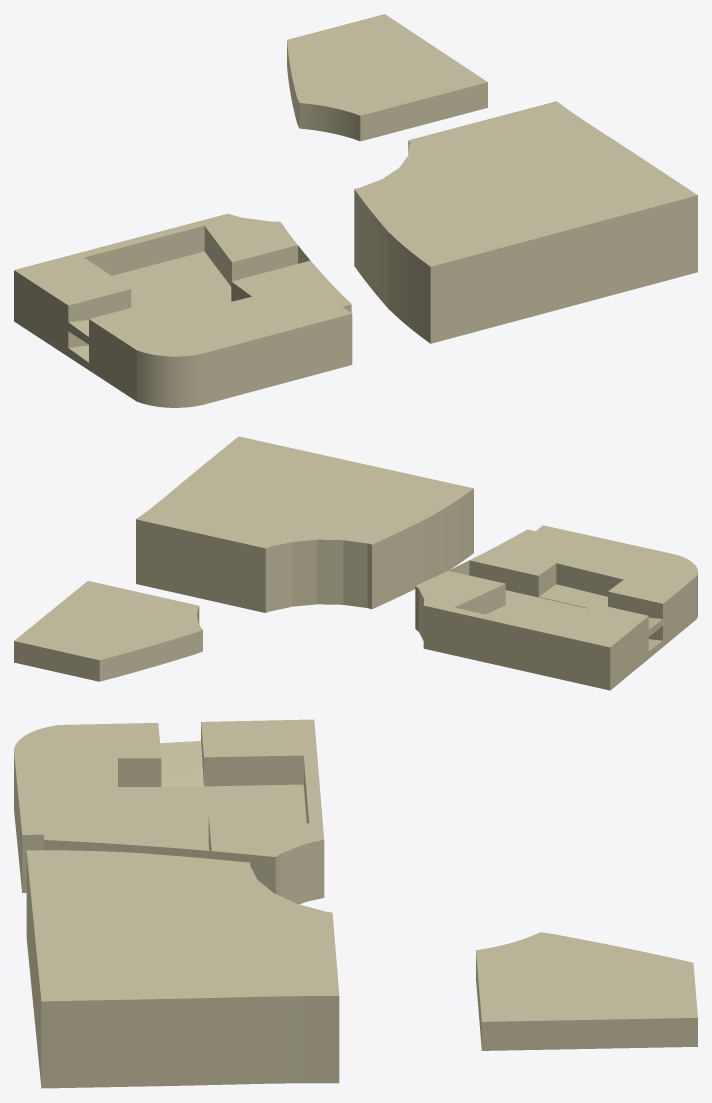
File: SM_WhiteModel_11.FBX
3 views of the same model, one above another, from view 1: azimuth 30°, elevation 25°; view 2: azimuth 150°, elevation 25°; view 3: azimuth 270°, elevation 25° (orthographic). The views are drawn at different scales.
Visible parts, largest first — view 1: SM_WhiteModel_11; view 2: SM_WhiteModel_11; view 3: SM_WhiteModel_11.
Boxes of the visible parts, bbox=[...] form: SM_WhiteModel_11: bbox=[14, 14, 697, 407]; SM_WhiteModel_11: bbox=[14, 436, 697, 690]; SM_WhiteModel_11: bbox=[14, 719, 697, 1088].
Bounding box in the file's own units: 10335 × 9608 × 1350.
